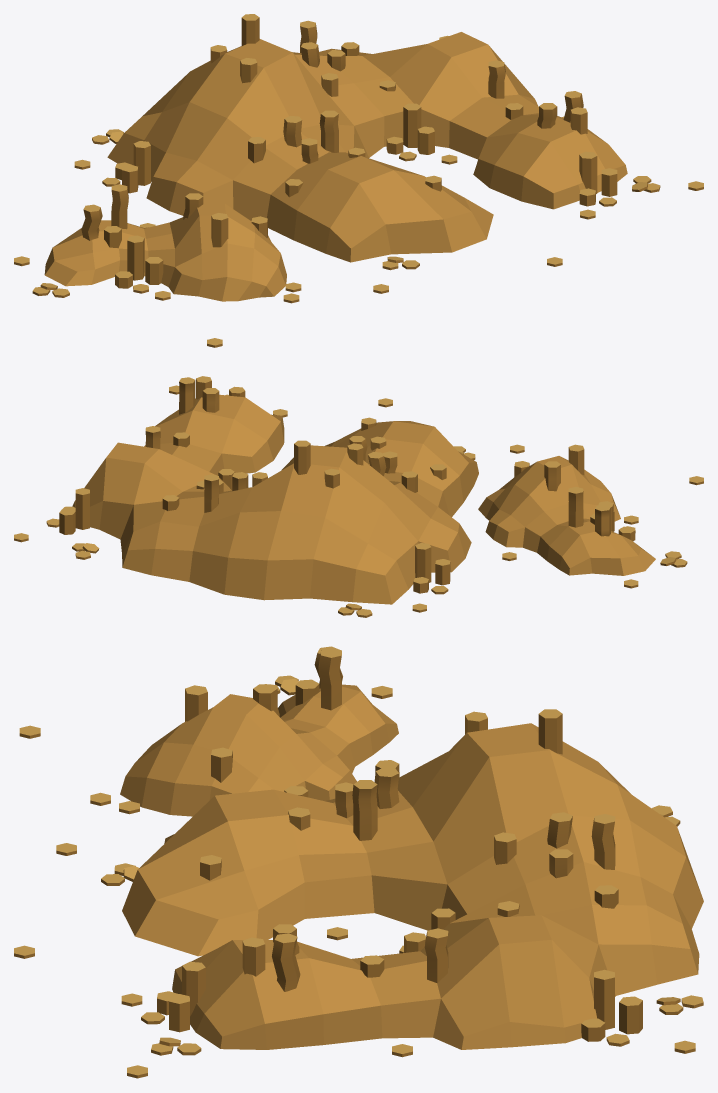
File: SD_Prop_CoinPile_03.fbx
3 views of the same model, one above another, from view 1: azimuth 30°, elevation 25°; view 2: azimuth 150°, elevation 25°; view 3: azimuth 270°, elevation 25° (orthographic). The views are drawn at different scales.
Visible parts, largest first — view 1: SD_Prop_CoinPile_03; view 2: SD_Prop_CoinPile_03; view 3: SD_Prop_CoinPile_03.
Boxes of the visible parts, x1,y1,x2,y2 form: SD_Prop_CoinPile_03: (14,14,703,347); SD_Prop_CoinPile_03: (14,376,703,617); SD_Prop_CoinPile_03: (14,646,703,1078).
Size of the model in its own units: 7.06 by 1.41 by 5.15.
